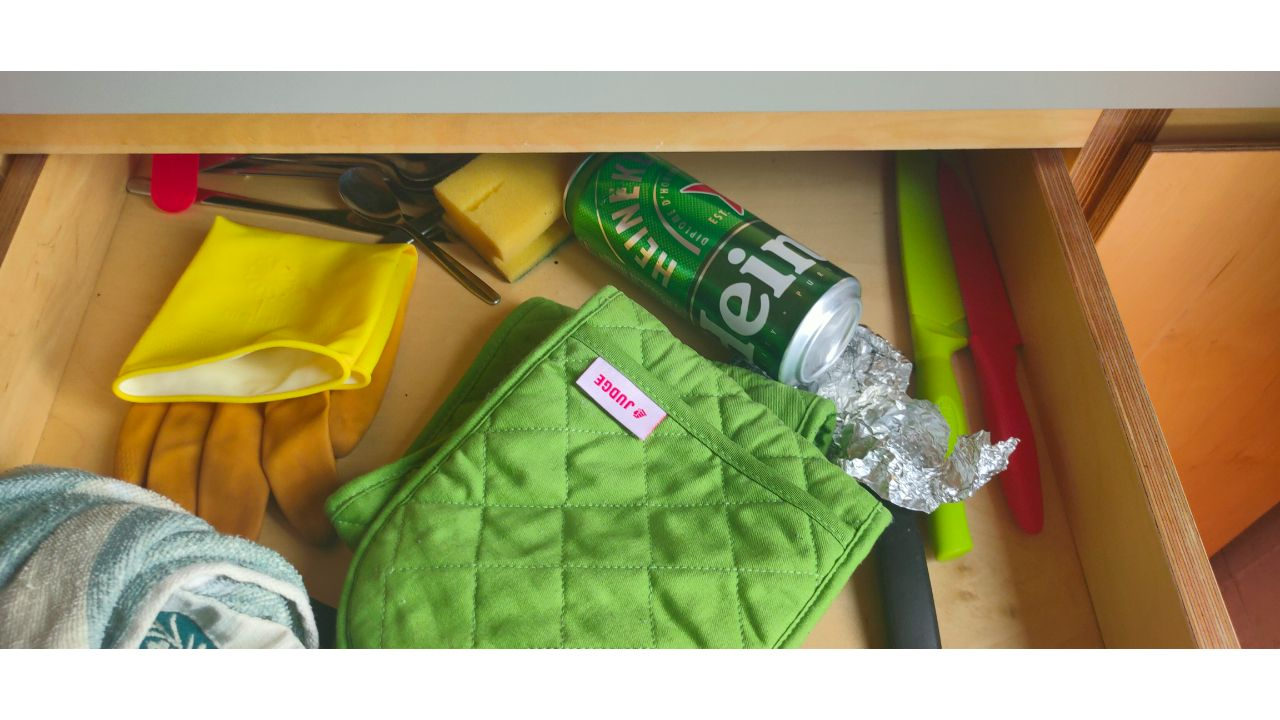Can: (565, 160, 861, 386)
